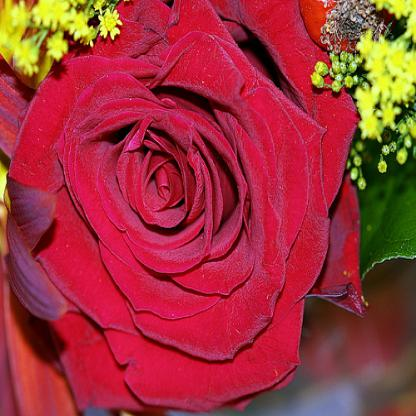ROSE-MAWAR: (3, 3, 390, 413)
